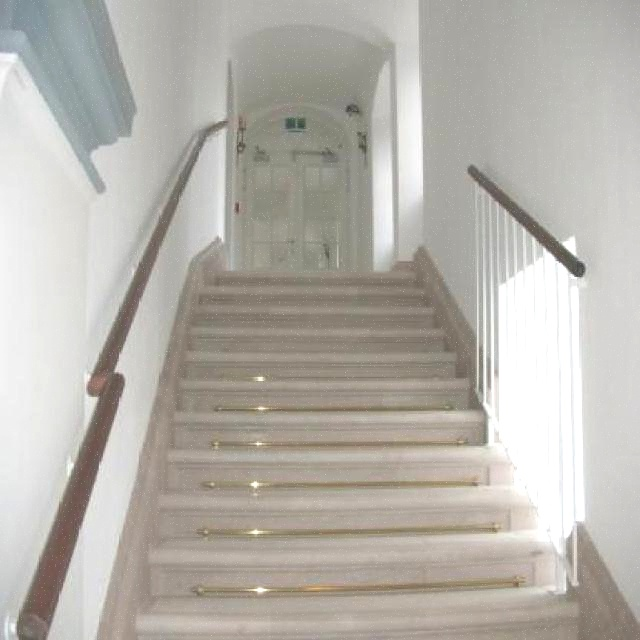stair: (120, 257, 583, 640)
